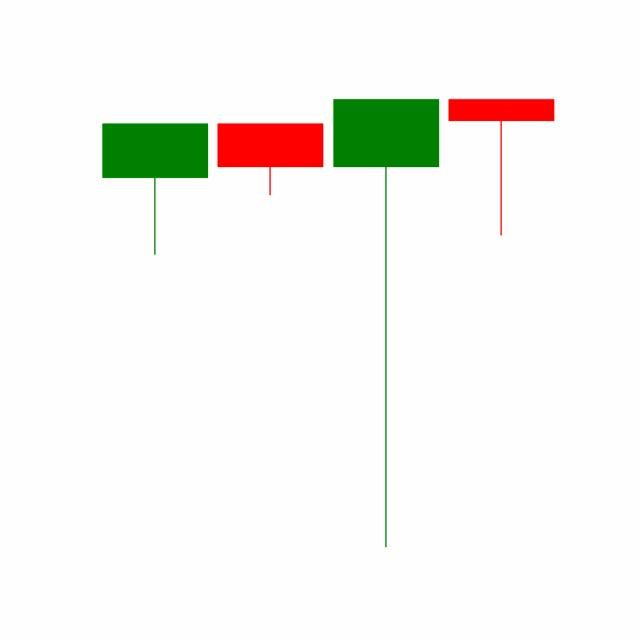Hanging Man: (443, 96, 559, 236)
